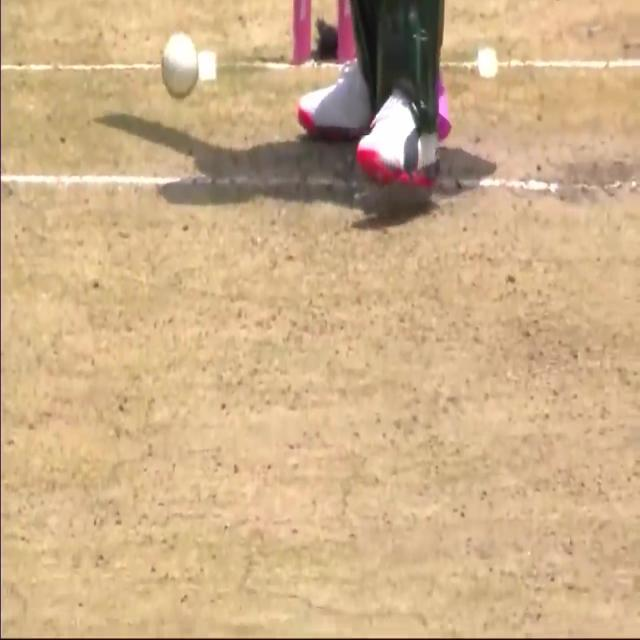Batsman: (152, 15, 209, 109)
